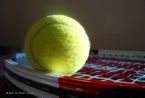tennis ball: (25, 14, 91, 74)
